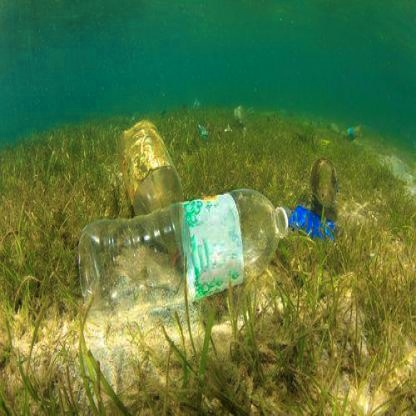pbottle: (75, 187, 361, 341), (107, 112, 197, 268)
